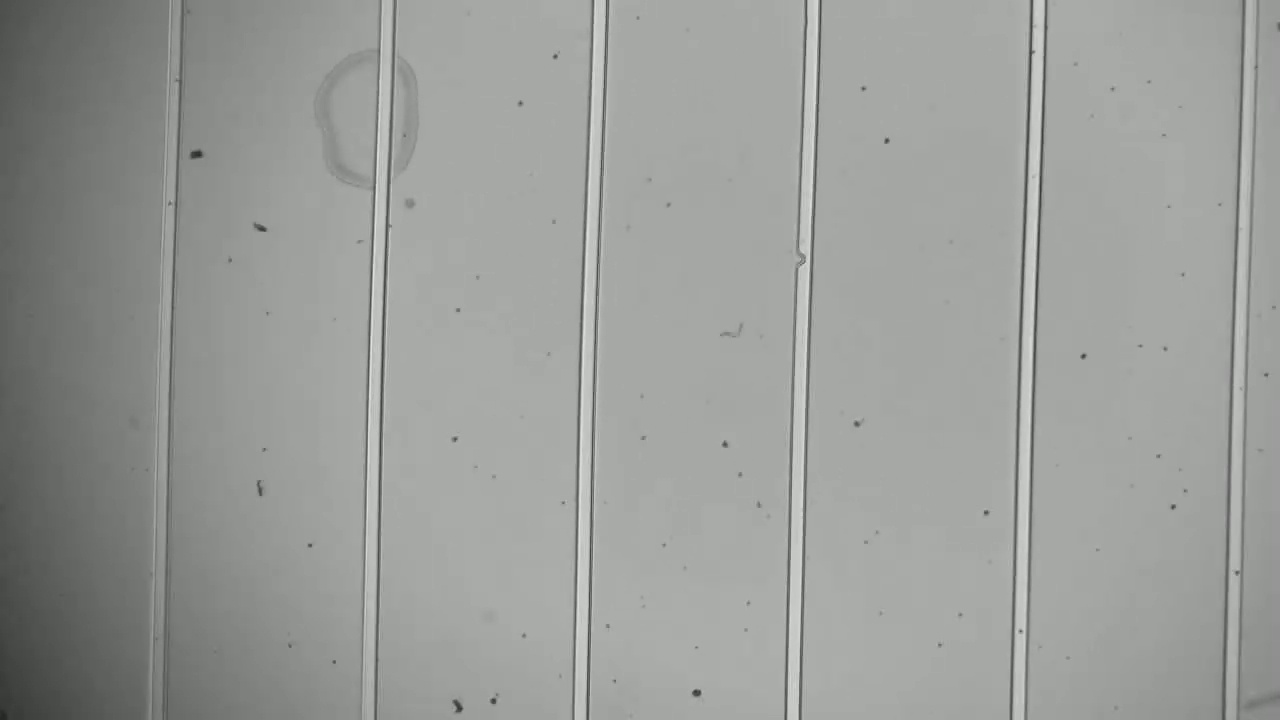edge_bite: (790, 244, 818, 273)
